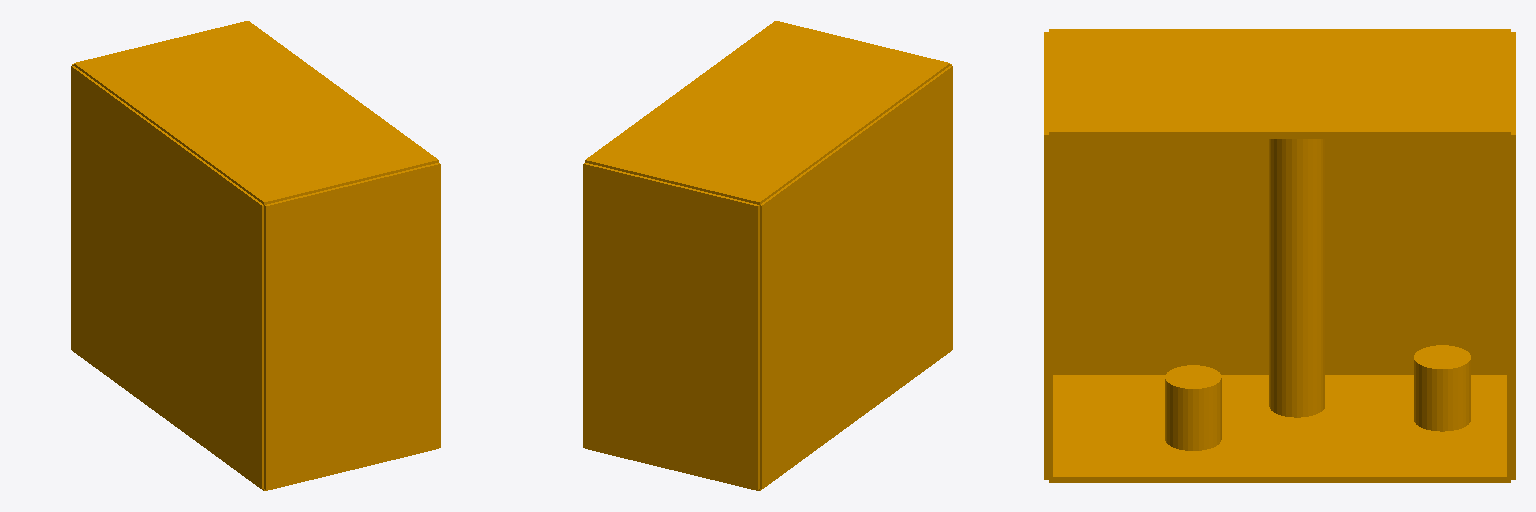
The robot description file, URDF, robot "syn_can_cabinet_1380":
<?xml version="1.0" ?>
<robot name="syn_can_cabinet_1380">
    <link concave="yes" name="base_link">
        <inertial>
            <origin rpy="0 0 0" xyz="0 0 0"/>
            <mass value="0.0"/>
            <inertia ixx="1e-08" ixy="0" ixz="0" iyy="1e-08" iyz="0" izz="1e-08"/>
        </inertial>
        <visual>
            <origin xyz="0 0 0" rpy="0 0 0" />
            <geometry>
                <mesh filename="syn_can_cabinet_1380.obj" scale="1.000000 1.000000 1.000000"/>
            </geometry>         
        </visual>

        <collision concave="yes">
            <origin xyz="0 0 0" rpy="0 0 0"/>
            <geometry>
                <mesh filename="syn_can_cabinet_1380.obj" scale="1.000000 1.000000 1.000000"/>
            </geometry>
        </collision>
    </link>
</robot>
    

--- What the picture shows (computed from the rendered views, not written in the file) ---
The picture shows the robot from 3 angles, left to right: view 1: azimuth 30°, elevation 25°; view 2: azimuth 150°, elevation 25°; view 3: azimuth 270°, elevation 25°; orthographic projection.
Model syn_can_cabinet_1380 with 1 links and 0 joints (none), rooted at base_link, posed all joints at 0.
Visible links, largest first — view 1: base_link; view 2: base_link; view 3: base_link.
Link boxes in pixels (x1,y1,x2,y2): base_link: (71,21,440,490); base_link: (583,21,952,490); base_link: (1044,29,1515,482).
Size in the robot's own frame: 0.1835 by 0.3486 by 0.2863 metres.
1 mesh visuals loaded from 1 distinct referenced files (1 OBJ).
